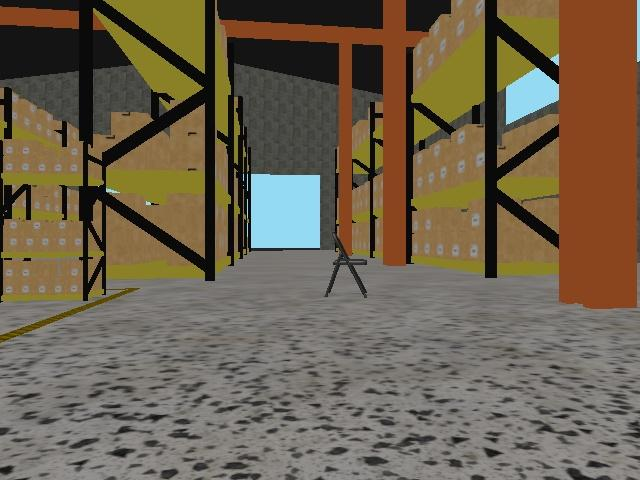chair: (323, 231, 371, 299)
